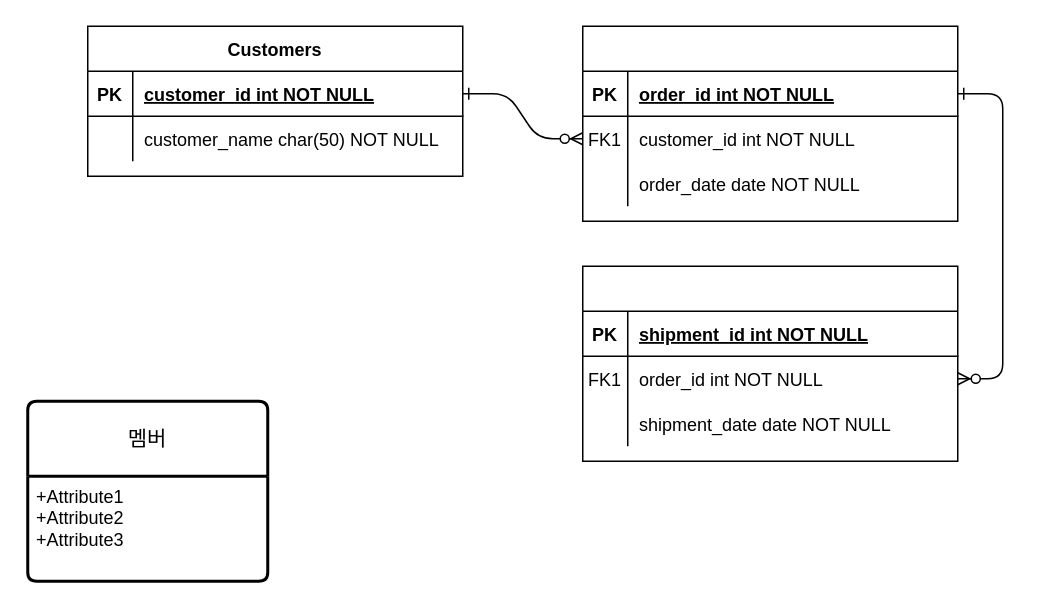
Some shapes in this 1043 by 609 pixel diagram are drawn without their labels. Each missing label, with the box of its shape:
Orders: (581, 25, 958, 221)
Shipments: (581, 265, 958, 461)
